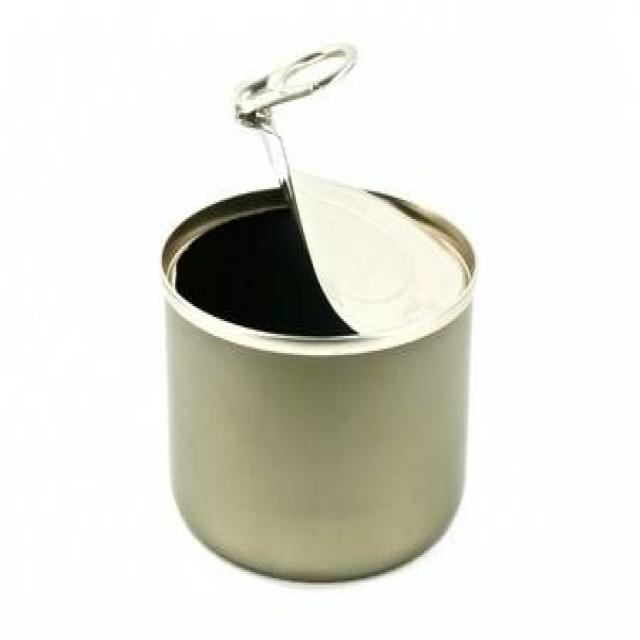metal-can: (162, 38, 484, 585)
